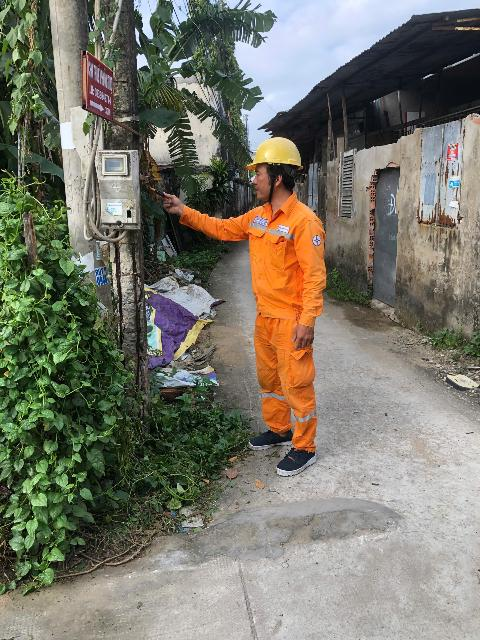helmet: (227, 129, 321, 178)
shoes: (276, 444, 324, 484), (242, 418, 297, 450)
